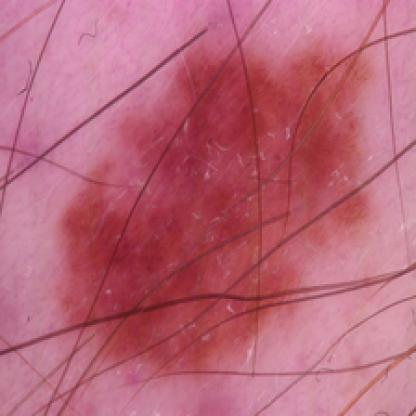benign: (61, 65, 364, 342)
